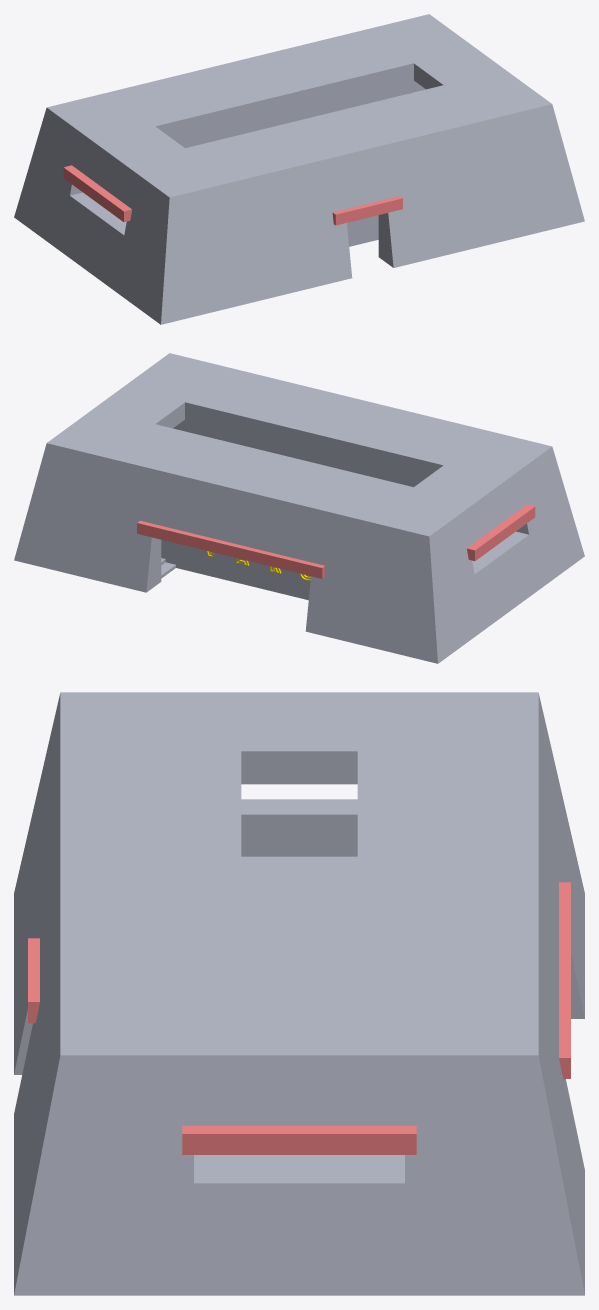
File: unit_01.glb
3 views of the same model, one above another, from view 1: azimuth 30°, elevation 25°; view 2: azimuth 150°, elevation 25°; view 3: azimuth 270°, elevation 25° (orthographic). The views are drawn at different scales.
Visible parts, largest first — view 1: grey, red; view 2: grey, red; view 3: grey, red.
Boxes of the visible parts, x1,y1,x2,y2 form: grey: (14, 14, 584, 324); red: (63, 165, 402, 225); grey: (14, 353, 584, 663); red: (137, 504, 535, 578); grey: (14, 692, 584, 1295); red: (28, 882, 570, 1154).
Size of what is drawn, in the model's own units: 25 by 6.4 by 15.
